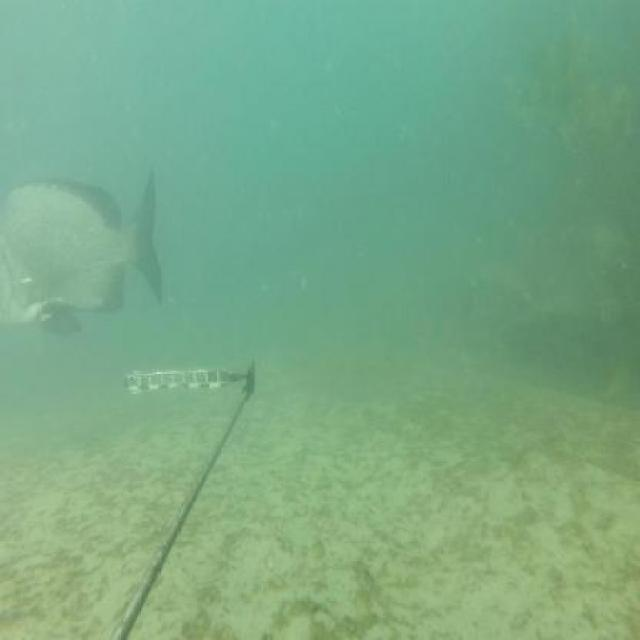acanthopagrus_palmaris: (0, 167, 166, 344)
